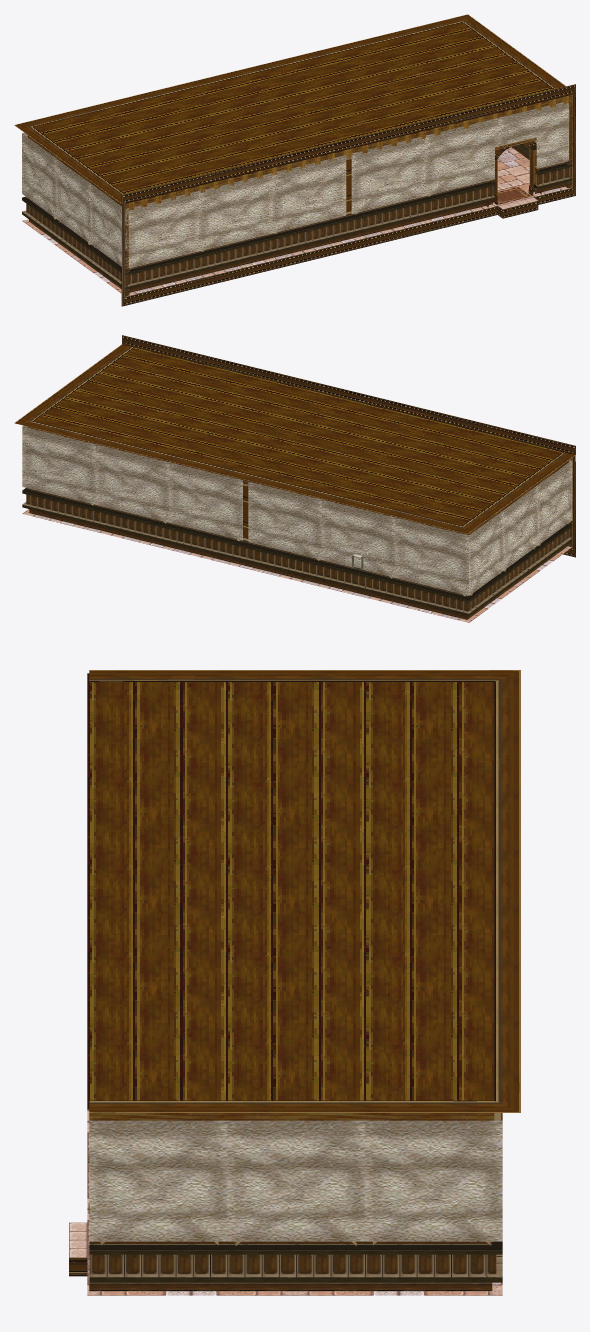
The model's file is room_14.glb.
3 renders of one model, top to bottom at view 1: azimuth 30°, elevation 25°; view 2: azimuth 150°, elevation 25°; view 3: azimuth 270°, elevation 25°, orthographic. The views are drawn at different scales.
Parts seen in each view (by area): view 1: room_14; view 2: room_14; view 3: room_14.
Part boxes in pixels (x1,y1,x2,y2): room_14: (14,14,575,306); room_14: (14,335,575,622); room_14: (69,670,520,1295).
Bounding box in the file's own units: 2551 × 600 × 1100.
Materials: 38 (37 with a texture image).
